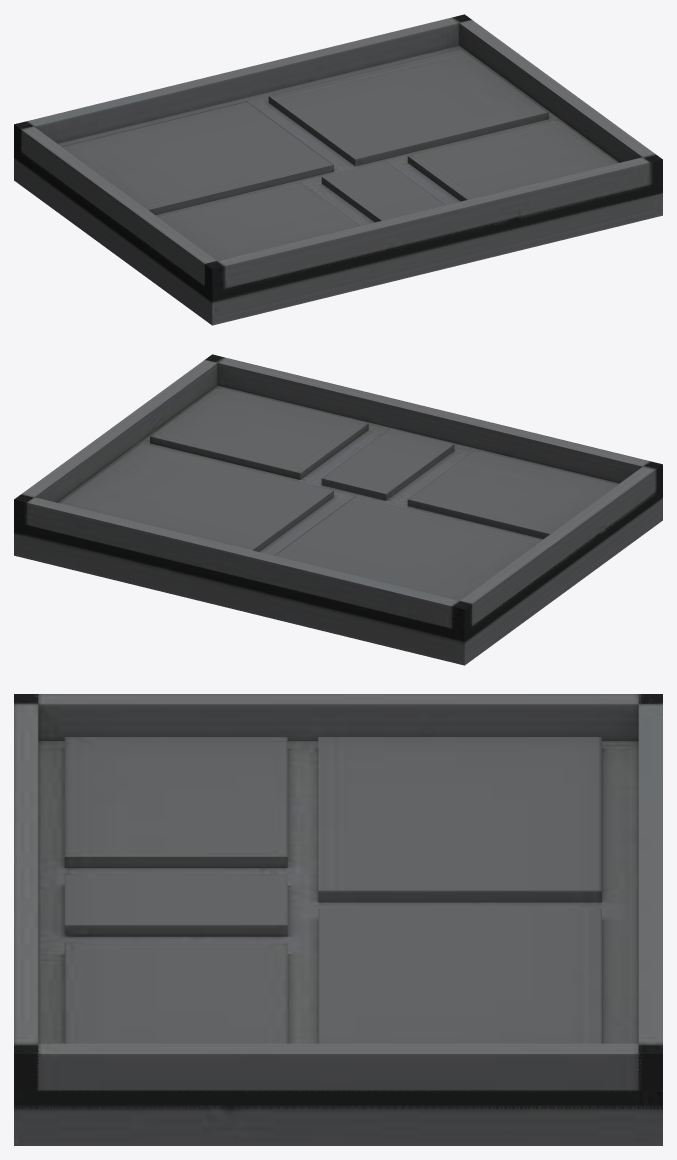
Rendered from prop_tray.glb.
3 views of the same model, one above another, from view 1: azimuth 30°, elevation 25°; view 2: azimuth 150°, elevation 25°; view 3: azimuth 270°, elevation 25° (orthographic). The views are drawn at different scales.
Visible parts, largest first — view 1: Tray; view 2: Tray; view 3: Tray.
Part boxes in pixels (x1,y1,x2,y2): Tray: (14, 14, 662, 325); Tray: (14, 354, 662, 665); Tray: (14, 694, 662, 1145).
Bounding box in the file's own units: 0.42 × 0.05 × 0.32.
2 materials, 2 textured.
